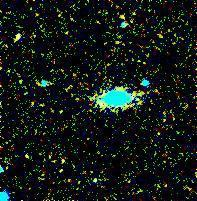star: (110, 1, 140, 31)
